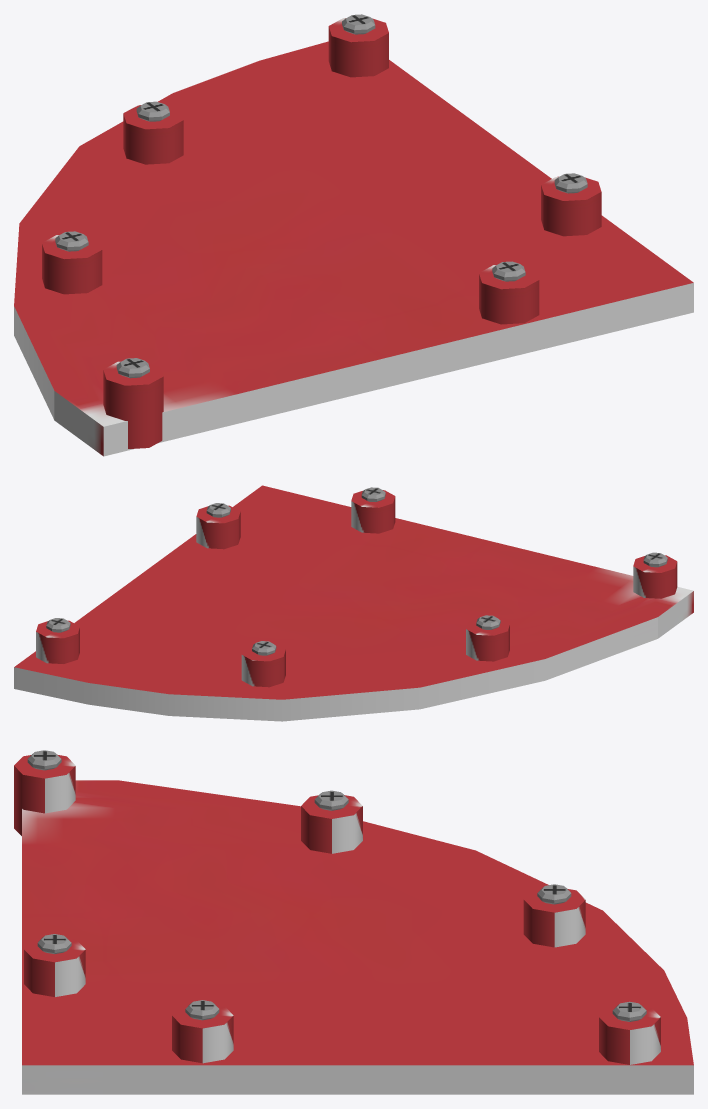
The model's file is Special track piece - Locked curved piece.fbx.
The picture shows the model from 3 angles, top to bottom: view 1: azimuth 30°, elevation 25°; view 2: azimuth 150°, elevation 25°; view 3: azimuth 270°, elevation 25°; orthographic projection. The views are drawn at different scales.
Visible parts, largest first — view 1: Curve peice (locked); view 2: Curve peice (locked); view 3: Curve peice (locked).
Part boxes in pixels (<box>): Curve peice (locked): <box>14,14,693,456</box>; Curve peice (locked): <box>14,485,693,721</box>; Curve peice (locked): <box>14,750,693,1094</box>.
Size of the model in its own units: 82.61 by 9.99 by 83.31.
